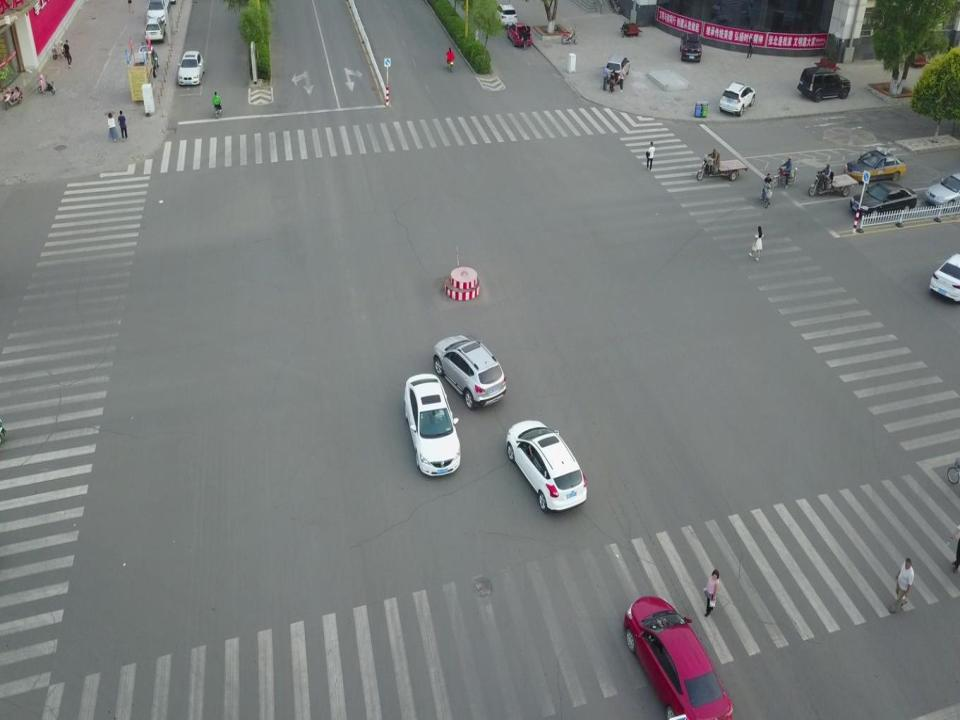car: (624, 594, 734, 720), (506, 421, 589, 511), (402, 374, 460, 475), (431, 332, 506, 406), (849, 184, 919, 219), (798, 62, 852, 103), (845, 148, 908, 182), (718, 78, 754, 114), (924, 172, 955, 208), (178, 49, 205, 87), (680, 30, 702, 64), (135, 43, 157, 77), (507, 22, 533, 50), (142, 16, 166, 43), (606, 52, 630, 79), (494, 3, 519, 26), (144, 0, 172, 18)
